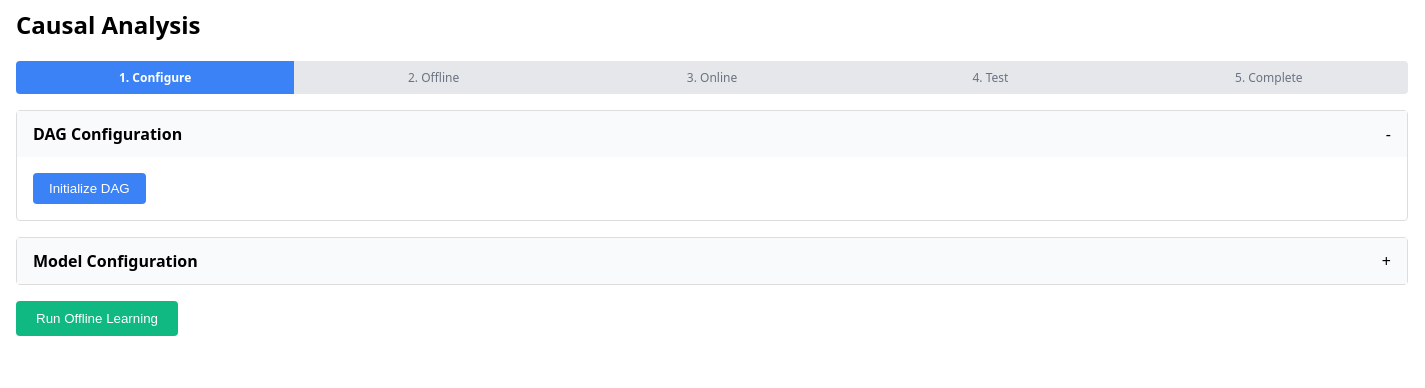
Test case: CausalAnalysisPanel › Initial State › should have default configuration values
The width and height of the screenshot is (1425, 388).
// Click to expand config section
Click the text "Model Configuration". click: (115, 261)
box: [33,250,198,272]
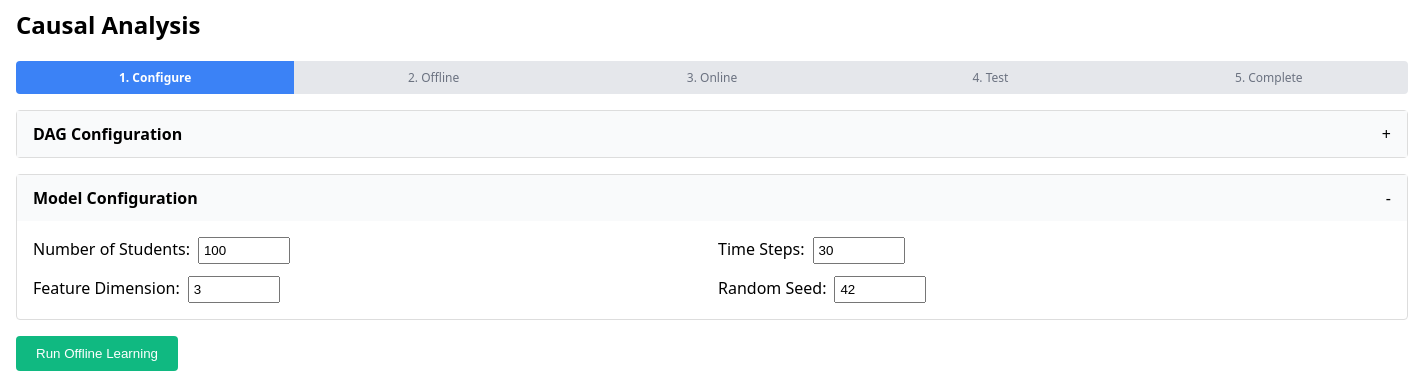
Result: the number field labelled "Number of Students:" is shown at [198,237,290,264]
